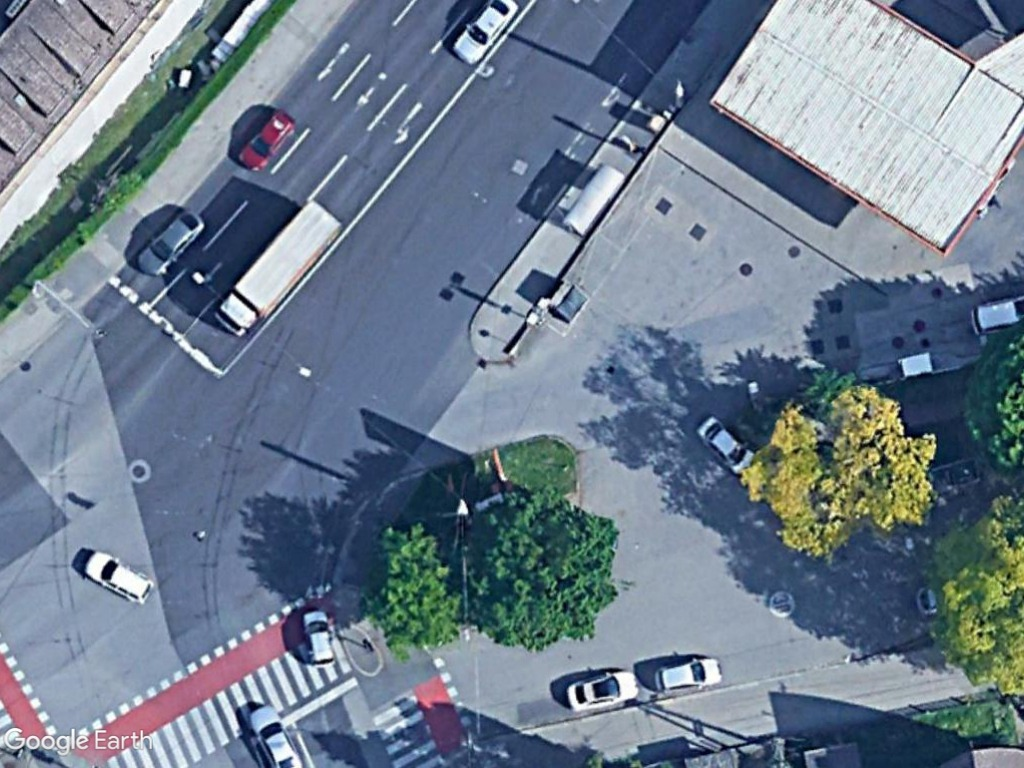car: (131, 204, 210, 281), (446, 0, 520, 66), (232, 108, 299, 174), (559, 666, 645, 717), (81, 549, 156, 607), (696, 412, 760, 478), (647, 656, 730, 696), (299, 608, 339, 673)
truck: (207, 192, 343, 343)
